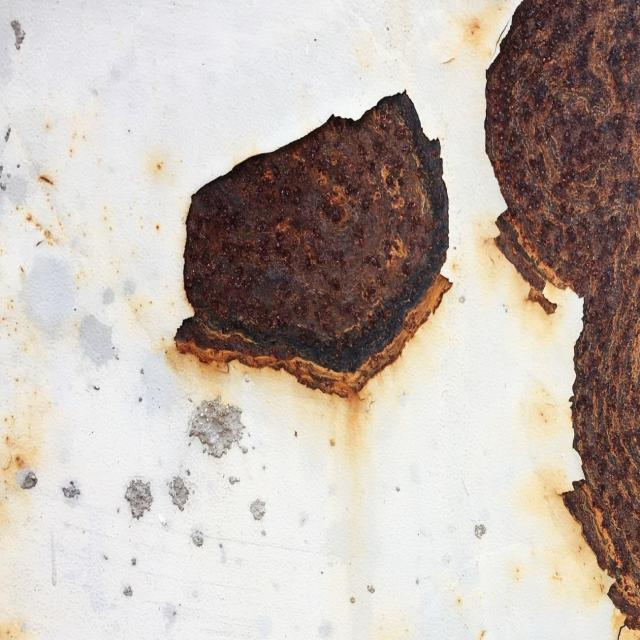Pitting Corrosion: (484, 0, 640, 630), (174, 92, 451, 396)
